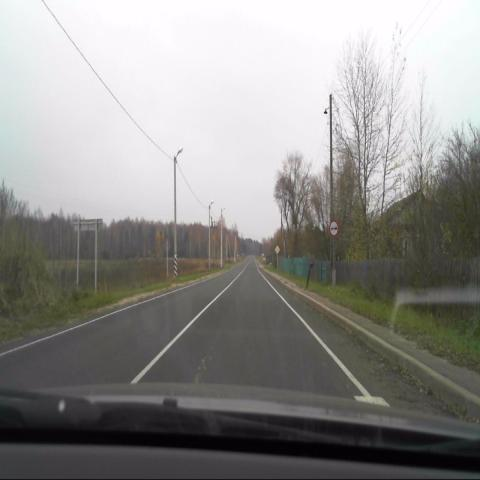3_20: (329, 221, 338, 235)
